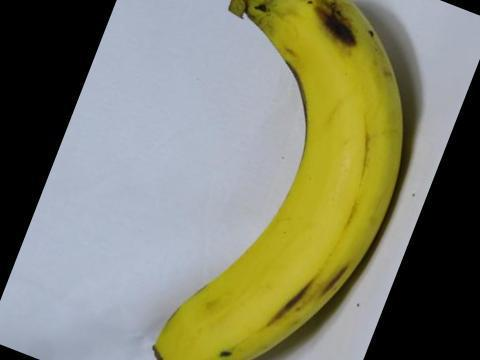freshripe: (146, 0, 419, 359)
